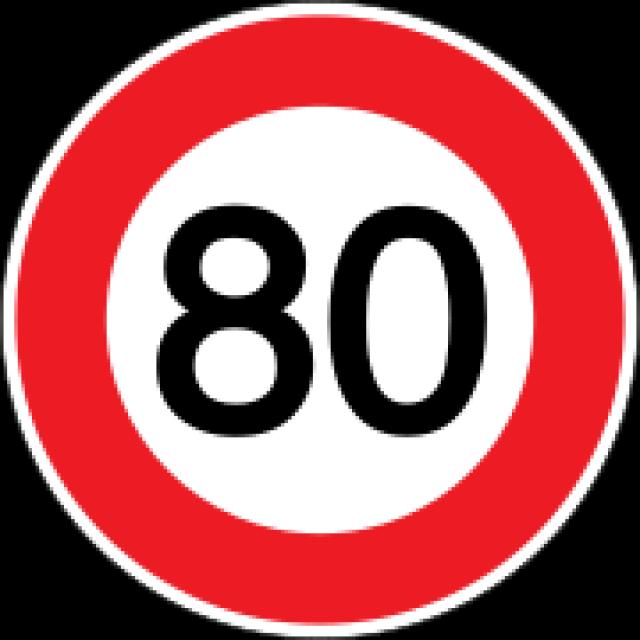Speed Limit -80-: (150, 189, 496, 445)
